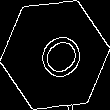O_SW: (25, 22, 85, 88)
